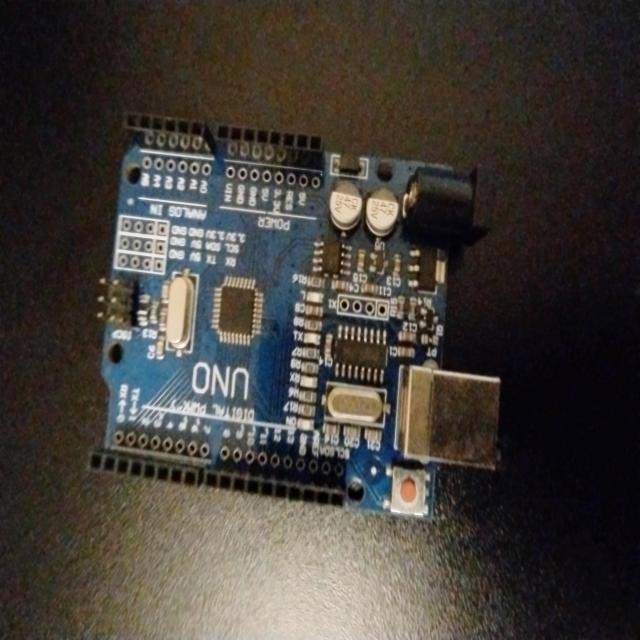arduino: (85, 108, 513, 540)
